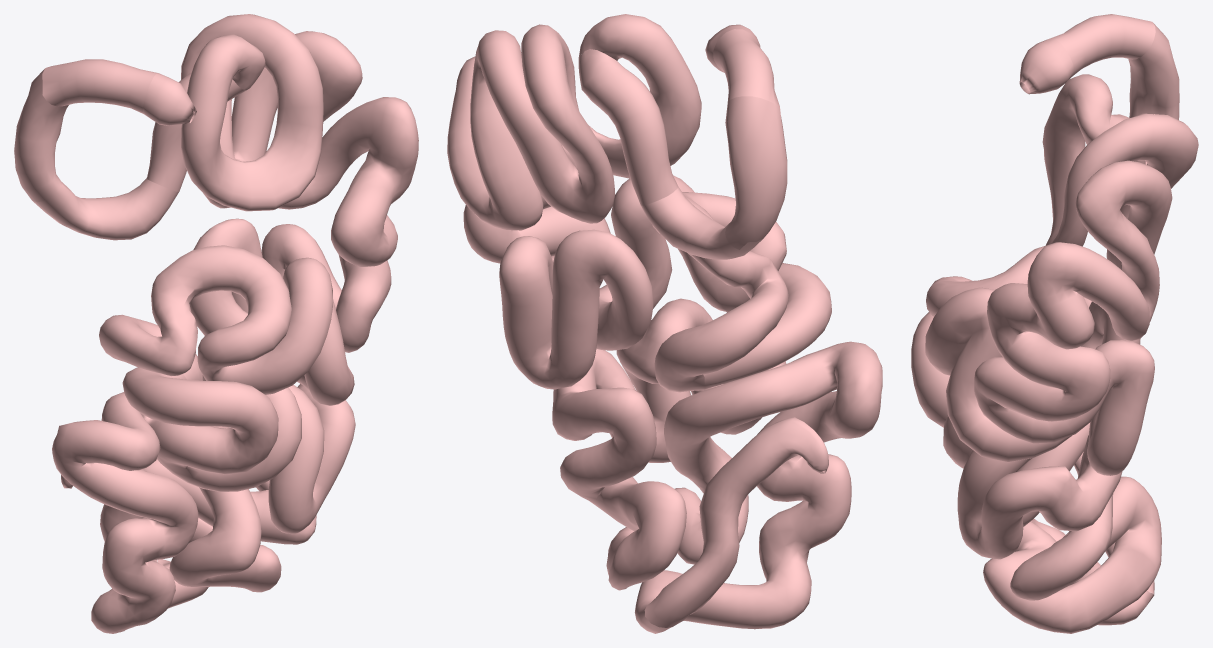
File: small_intestine.glb
3 renders of one model, left to right at view 1: azimuth 30°, elevation 25°; view 2: azimuth 150°, elevation 25°; view 3: azimuth 270°, elevation 25°, orthographic. The views are drawn at different scales.
Parts seen in each view (by area): view 1: VH_M_ileum; view 2: VH_M_ileum; view 3: VH_M_ileum.
Part boxes in pixels (x1,y1,x2,y2): VH_M_ileum: (14, 14, 418, 633); VH_M_ileum: (447, 14, 882, 633); VH_M_ileum: (911, 14, 1198, 633).
Size of the model in its own units: 0.188 by 0.2654 by 0.1222.
